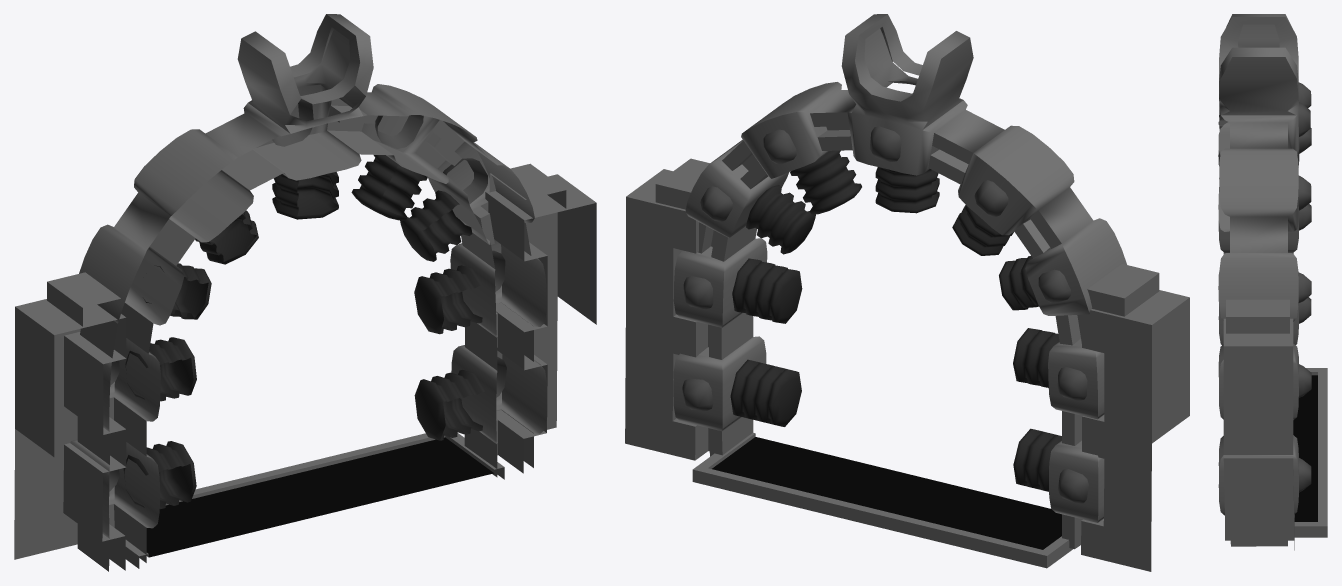
Rendered from PH_mesh_Galaxy_Door_Arc.fbx.
3 views of the same model, side by side, from view 1: azimuth 30°, elevation 25°; view 2: azimuth 150°, elevation 25°; view 3: azimuth 270°, elevation 25° (orthographic). The views are drawn at different scales.
Visible parts, largest first — view 1: mesh_Galaxy_Door_Arc; view 2: mesh_Galaxy_Door_Arc; view 3: mesh_Galaxy_Door_Arc.
Part boxes in pixels (left/top/right/bottom): mesh_Galaxy_Door_Arc: left=14, top=14, right=596, bottom=571; mesh_Galaxy_Door_Arc: left=625, top=14, right=1189, bottom=571; mesh_Galaxy_Door_Arc: left=1218, top=14, right=1327, bottom=550.
Bounding box in the file's own units: 4.67 × 3.94 × 0.915.
